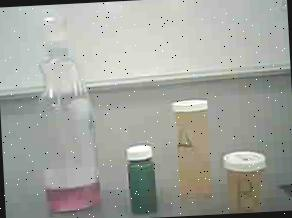Bottle A: (164, 92, 217, 206)
Bottle B: (216, 138, 274, 214)
Bottle C: (120, 136, 162, 214)
hazard: (19, 2, 111, 218)
